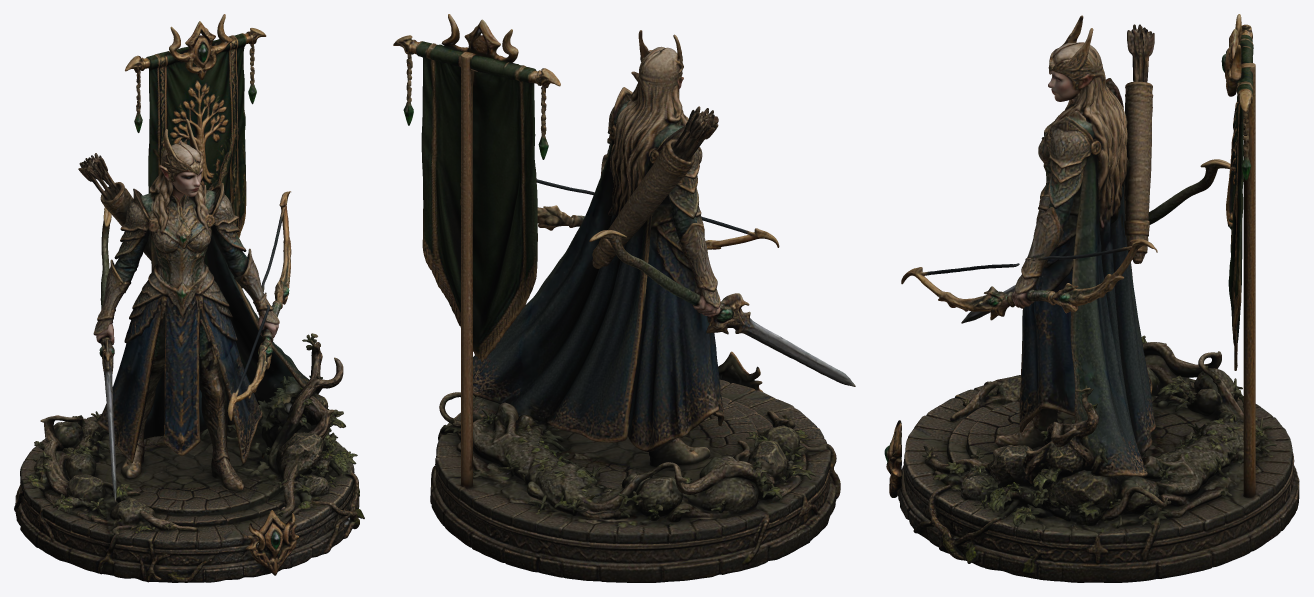
File: Тариэль.glb
The picture shows the model from 3 angles, left to right: view 1: azimuth 30°, elevation 25°; view 2: azimuth 150°, elevation 25°; view 3: azimuth 270°, elevation 25°; orthographic projection. The views are drawn at different scales.
Parts seen in each view (by area): view 1: tripo_node_9530c420-2d1a-41b5-bcda-07c8353c9d85; view 2: tripo_node_9530c420-2d1a-41b5-bcda-07c8353c9d85; view 3: tripo_node_9530c420-2d1a-41b5-bcda-07c8353c9d85.
Part boxes in pixels (x1,y1,x2,y2): tripo_node_9530c420-2d1a-41b5-bcda-07c8353c9d85: [14, 14, 364, 582]; tripo_node_9530c420-2d1a-41b5-bcda-07c8353c9d85: [393, 14, 855, 582]; tripo_node_9530c420-2d1a-41b5-bcda-07c8353c9d85: [884, 14, 1299, 582].
Size of the model in its own units: 0.7271 by 1 by 0.7385.
Materials: 1 (1 with a texture image).
